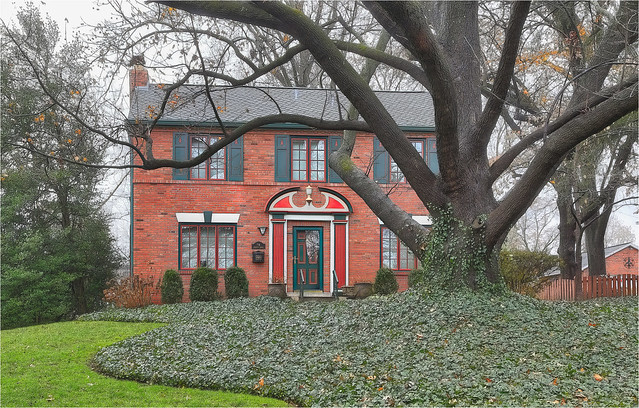low: (118, 49, 465, 301)
